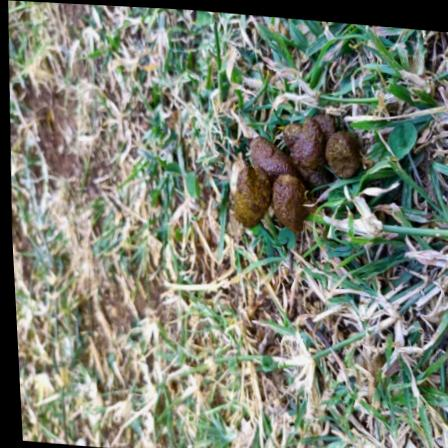dog-poop: (220, 98, 374, 238)
